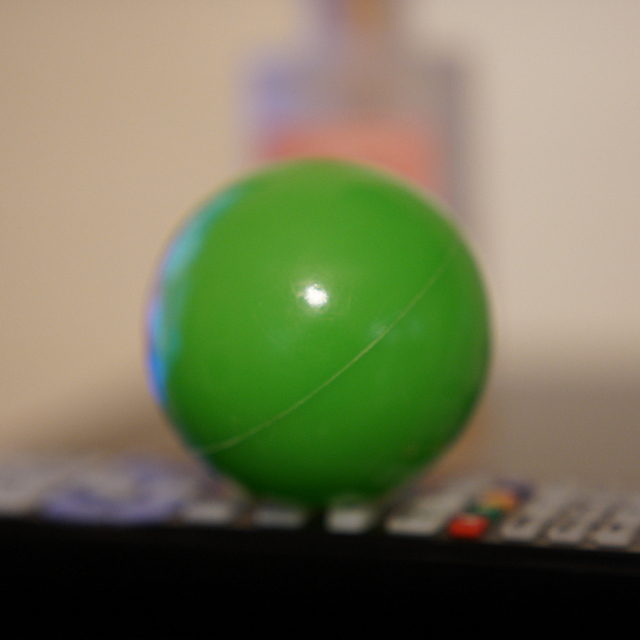Ball: (139, 156, 490, 504)
